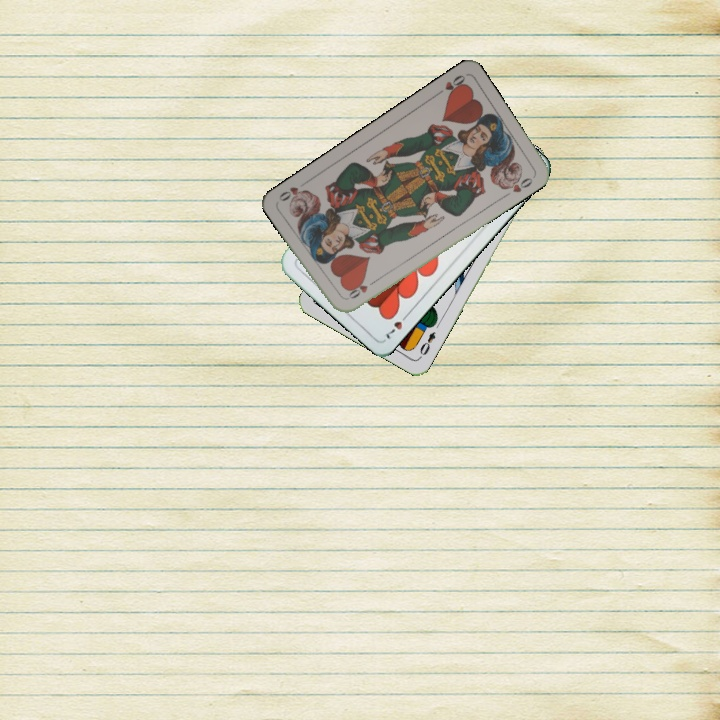EO: (415, 327, 438, 361)
H7: (382, 308, 412, 342)
HO: (432, 71, 468, 99), (341, 276, 378, 303)
